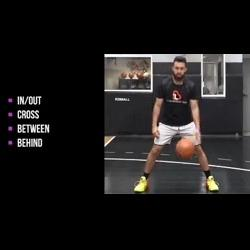BasketBall: (174, 137, 196, 160)
